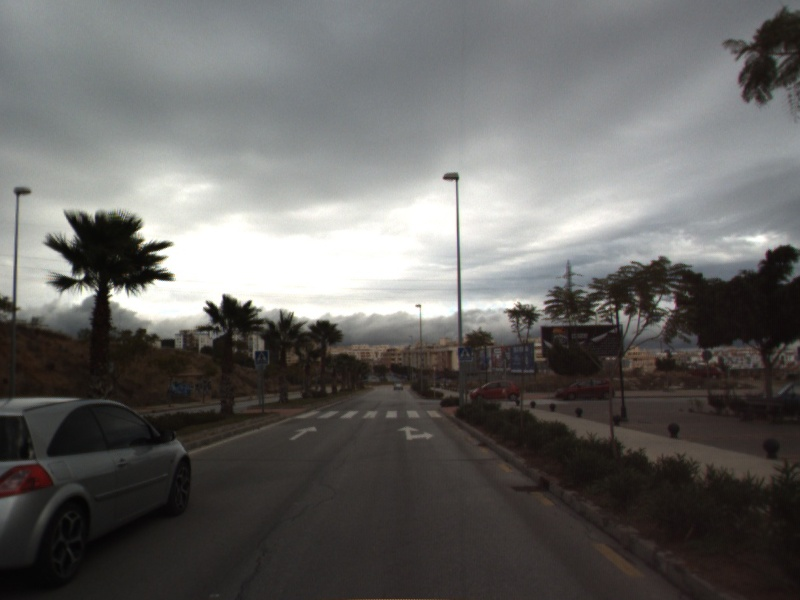STRAIGHT: (287, 424, 319, 442)
STRAIGHT_RIGHT: (395, 423, 435, 442)
